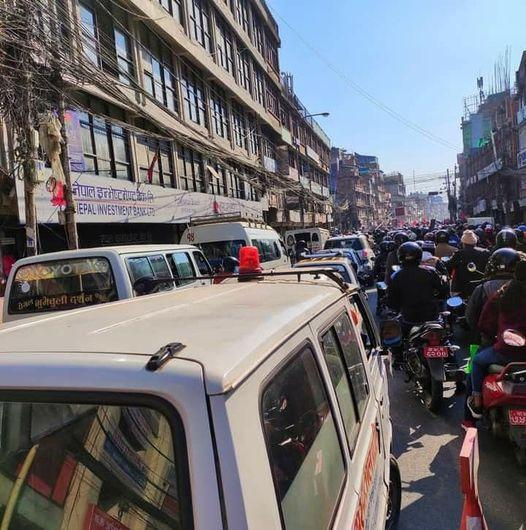ambulance: (0, 235, 413, 530)
micro_bus: (176, 209, 294, 283)
